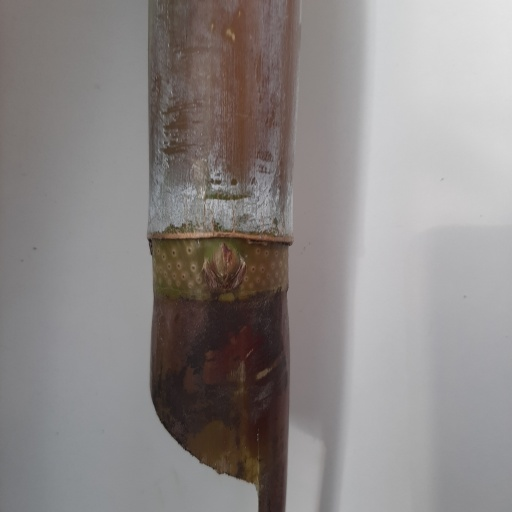Bud: (209, 242, 244, 290)
